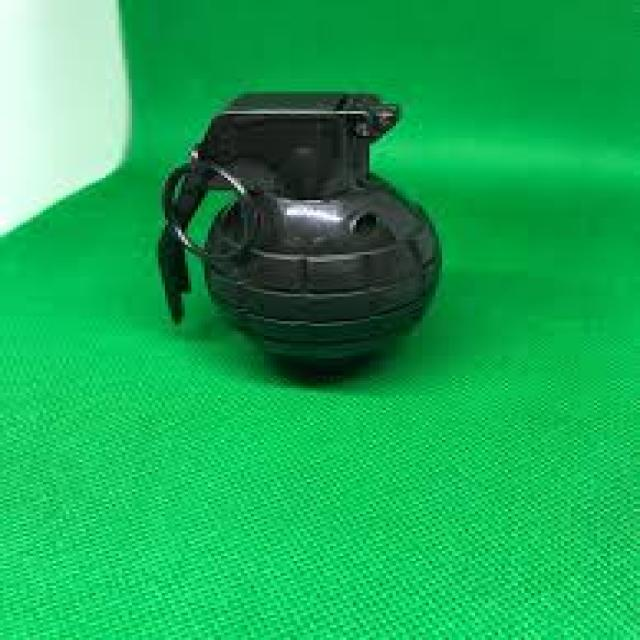grenade: (154, 79, 447, 359)
